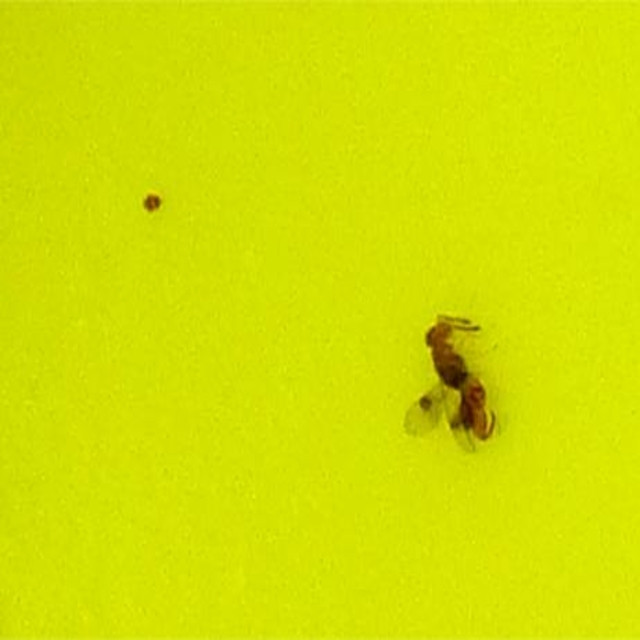Hymenoptera: (414, 312, 501, 451)
